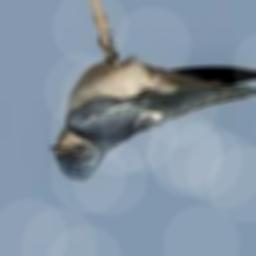Swallow: (50, 44, 256, 182)
